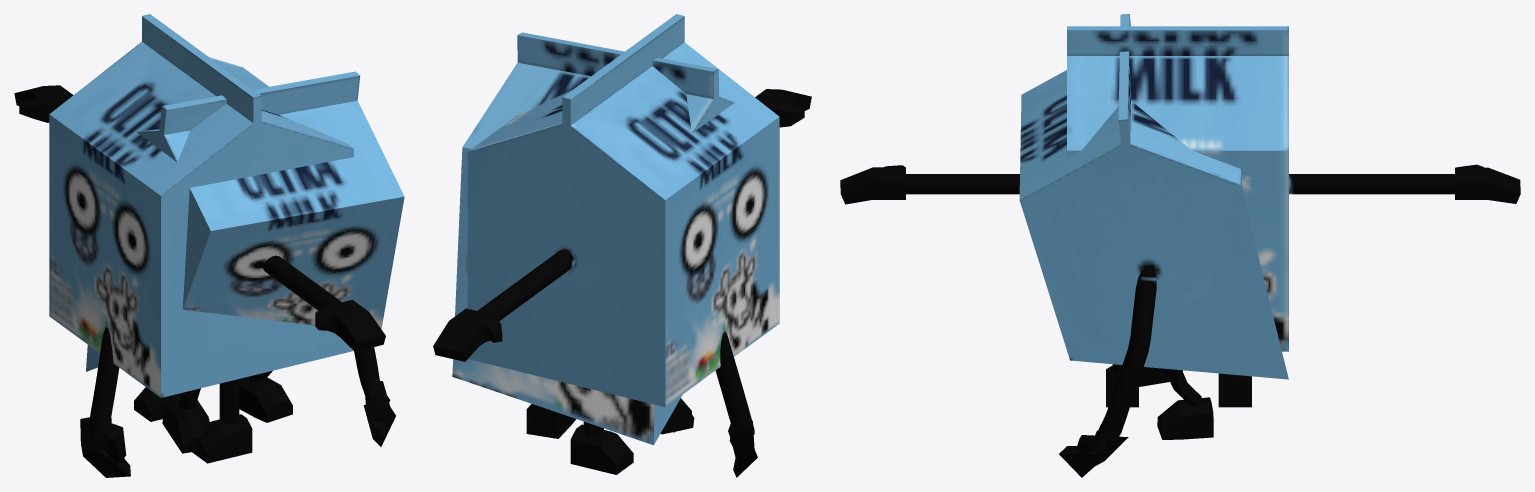
The model's file is susu jalan.fbx.
3 views of the same model, side by side, from view 1: azimuth 30°, elevation 25°; view 2: azimuth 150°, elevation 25°; view 3: azimuth 270°, elevation 25° (orthographic). The views are drawn at different scales.
Parts seen in each view (by area): view 1: KOTAK SUSU, KOTAK SUSU.001; view 2: KOTAK SUSU, KOTAK SUSU.001; view 3: KOTAK SUSU.001, KOTAK SUSU.
Part boxes in pixels (box(x1,y1,x2,y2)): KOTAK SUSU: box(14, 14, 385, 463); KOTAK SUSU.001: box(80, 71, 404, 477); KOTAK SUSU: box(433, 14, 811, 474); KOTAK SUSU.001: box(452, 32, 757, 477); KOTAK SUSU.001: box(1019, 14, 1288, 477); KOTAK SUSU: box(840, 26, 1520, 407).
Size of the model in its own units: 144 by 194 by 307.
Materials: 2 (2 with a texture image).
